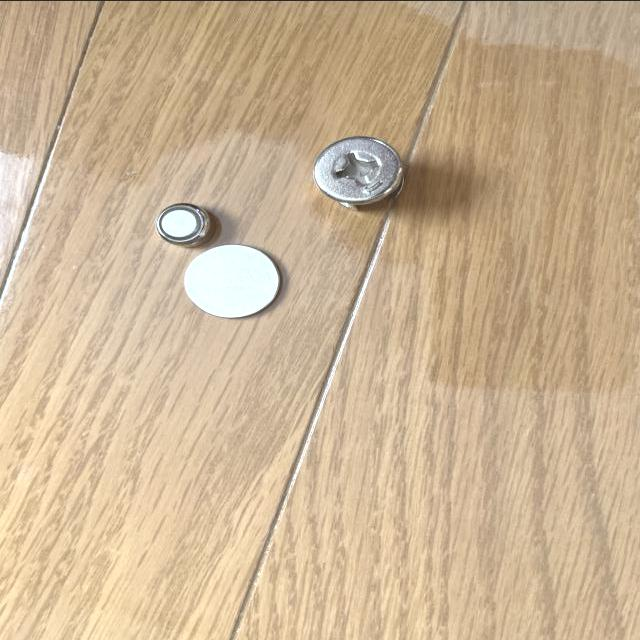COIN: (184, 245, 280, 318), (158, 202, 218, 248)
